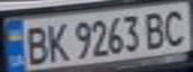2: (90, 16, 109, 57)
3: (121, 11, 145, 53)
6: (106, 15, 127, 55)
9: (69, 17, 93, 61)
B: (21, 21, 51, 65), (142, 8, 172, 50)
C: (160, 6, 193, 47)
K: (42, 20, 69, 63)
